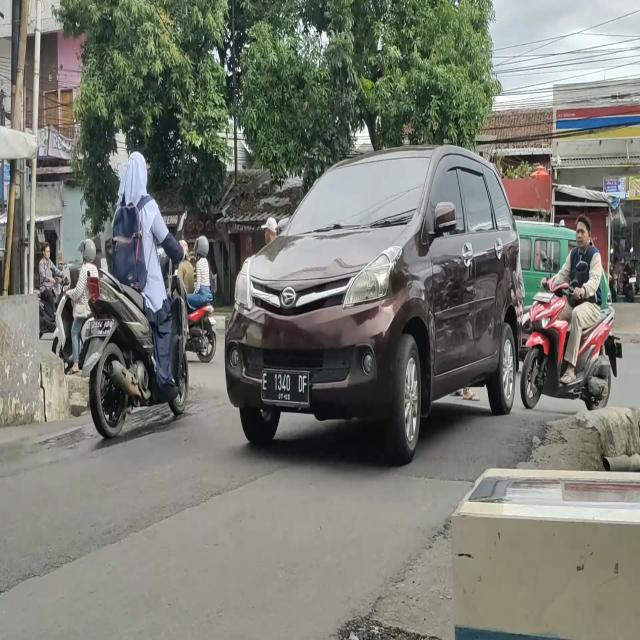helmet: (82, 239, 95, 262), (197, 234, 209, 256)
no-helmet: (122, 155, 148, 201), (574, 213, 590, 250), (41, 240, 51, 260)
